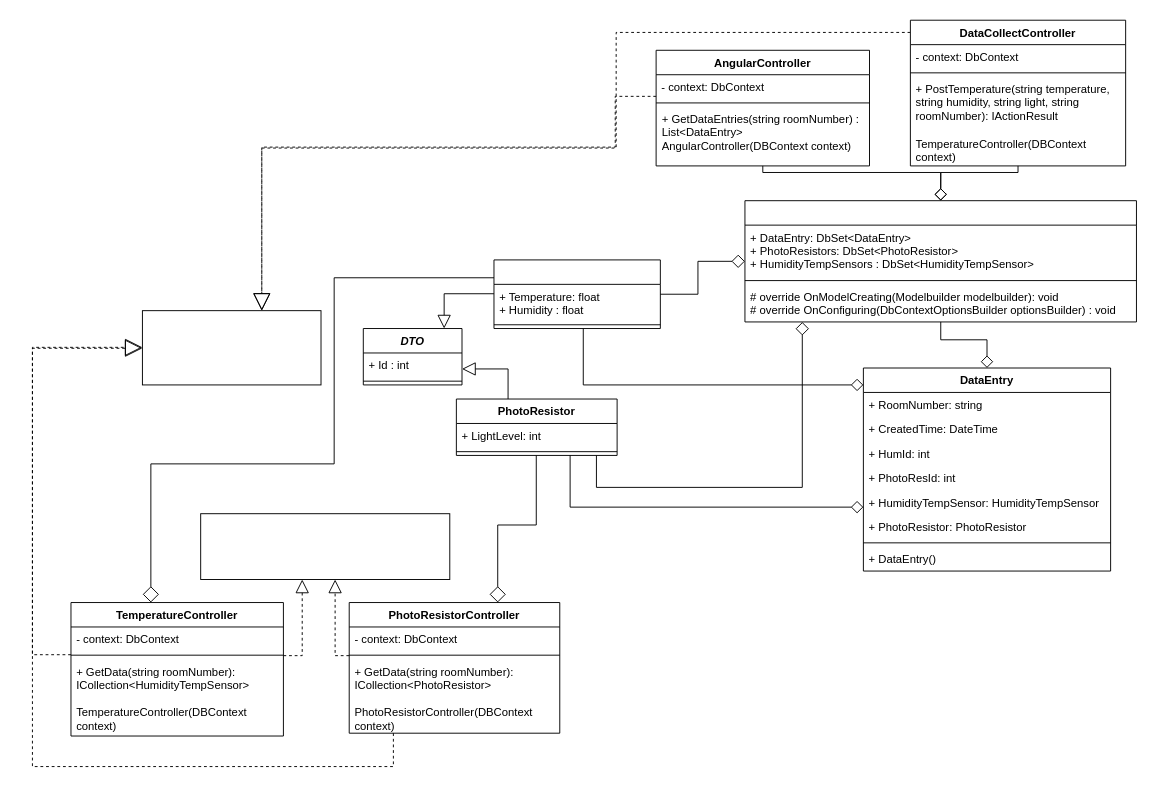
Some shapes in this 1153 by 800 pixel diagram are drawn without their labels. Each missing label, with the box of its shape:
<<Interface>> IFetchData<T> + GetData(string roomNumber): ICollection<T>: (200, 513, 450, 580)
<<Interface>> IHaveDbContextData + context: DbContext: (141, 310, 321, 385)
HumidityTempSensor: (493, 259, 660, 329)
SchoolDataContext: (744, 200, 1136, 322)
